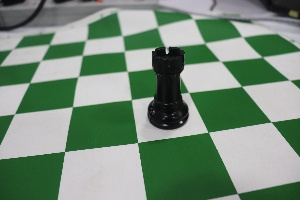black_rook: (130, 29, 196, 138)
